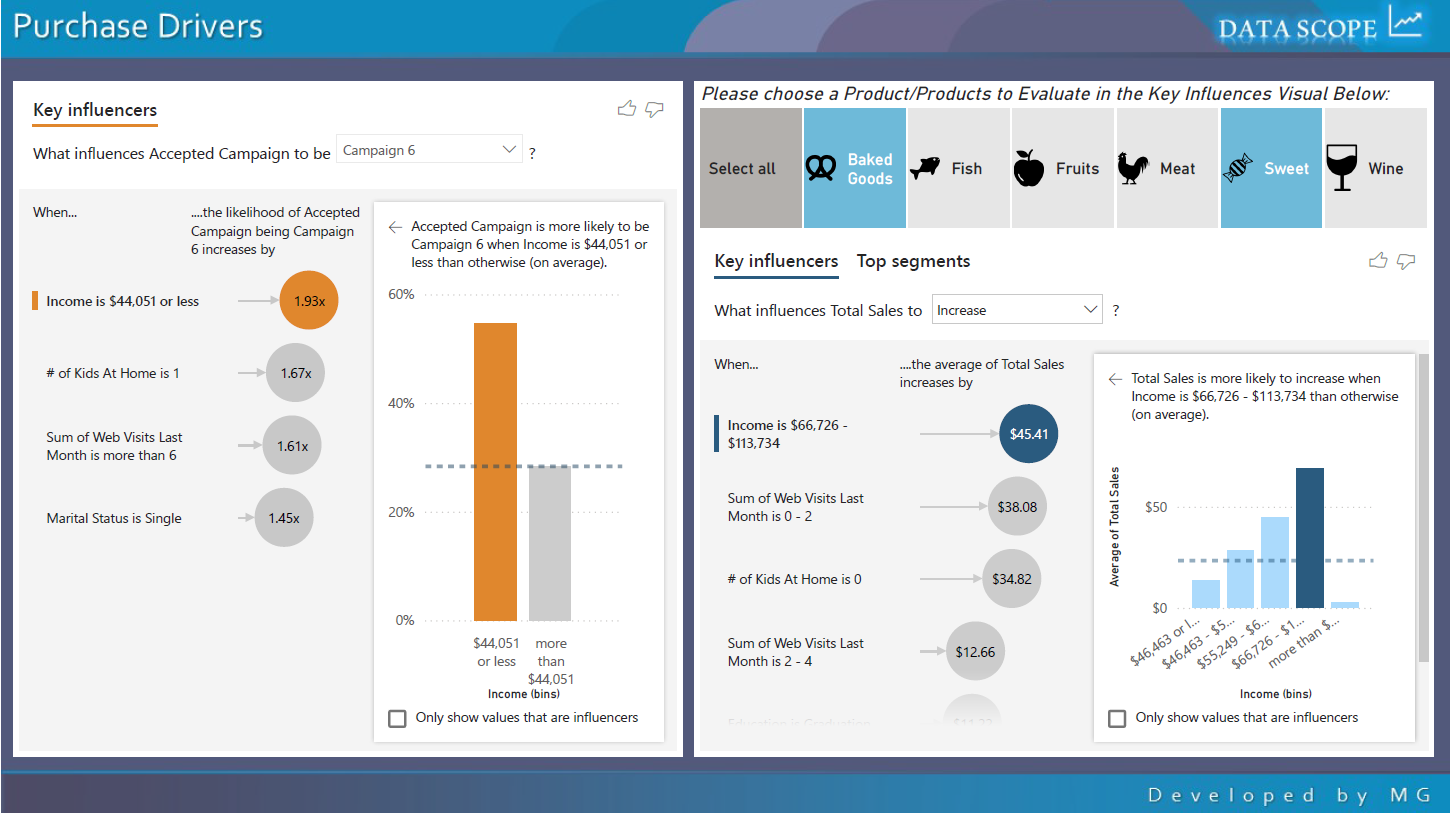

This screenshot's page, from the dashboard's own definition file:
{"tool":"powerbi","page":{"name":"Purchase Drivers","canvas":[1280,720],"ordinal":3},"visuals":[{"type":"keyDriversVisual","fields":{"Target":["Campaign.Campaign"],"ExplainBy":["marketmindz_research_data.Age","marketmindz_research_data.Country","marketmindz_research_data. Income ","marketmindz_research_data.Education","marketmindz_research_data.Marital_Status","Sum(marketmindz_research_data.Kidhome)","Sum(marketmindz_research_data.Teenhome)","Sum(marketmindz_research_data.Web Visits Last Month)"]},"box":[11.2,72.1,591.2,596.3],"z":0},{"type":"keyDriversVisual","fields":{"ExplainBy":["marketmindz_research_data. Income ","marketmindz_research_data.Age","marketmindz_research_data.Country","marketmindz_research_data.Education","marketmindz_research_data.Marital_Status","Sum(marketmindz_research_data.Kidhome)","Sum(marketmindz_research_data.Teenhome)","Sum(marketmindz_research_data.Web Visits Last Month)"],"Target":["Products.Total Sales"]},"box":[612.6,206.2,653.2,462.2],"z":1000},{"type":"advancedSlicerVisual","title":"Please choose a Product/Products to Evaluate in the Key Influences Visual Below:","fields":{"Values":["Products.Product"]},"box":[612.6,72.1,653.2,134.1],"z":2000}]}

Visuals, with their boxes in screenshot pixels (x1, y1, x2, y2), scaled from the page's 1280x720 canvas onto the 1451x815 screenshot:
keyDriversVisual - Campaign.Campaign x marketmindz_research_data.Age: (13, 82, 683, 757)
keyDriversVisual - marketmindz_research_data. Income  x marketmindz_research_data.Age: (694, 233, 1435, 757)
"Please choose a Product/Products to Evaluate in the Key Influences Visual Below:" advancedSlicerVisual: (694, 82, 1435, 233)
